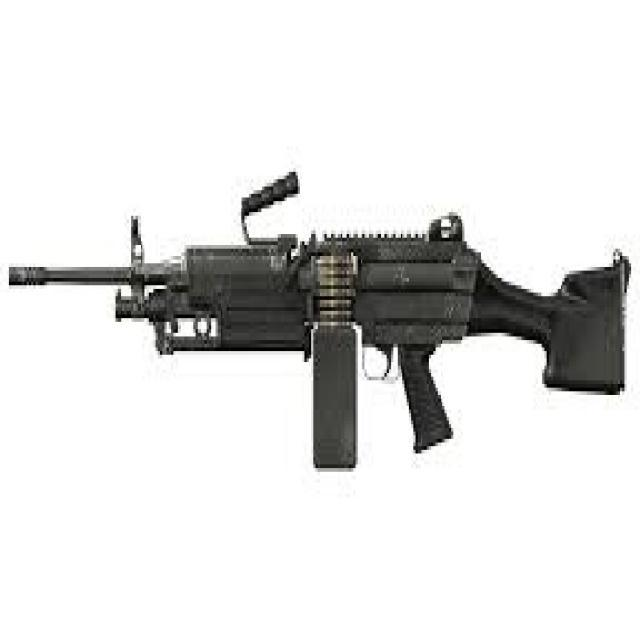gun-knife-thesis - v11 Yolov5 augmented: (2, 168, 627, 483)
